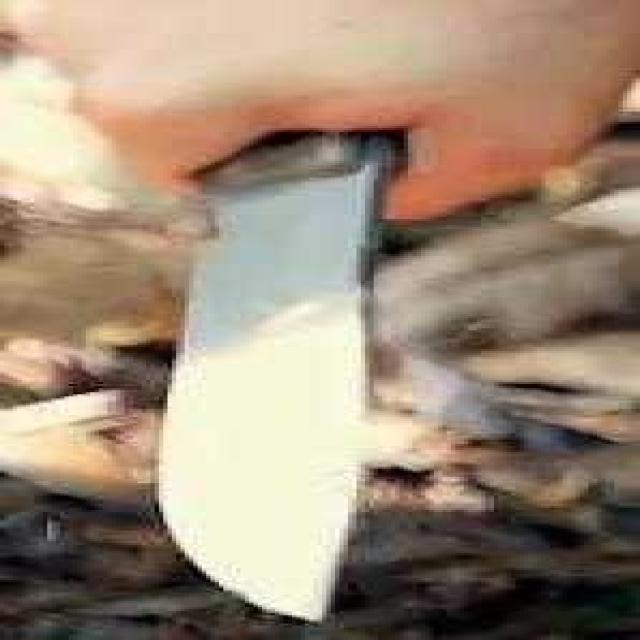Knife: (100, 63, 414, 604)
